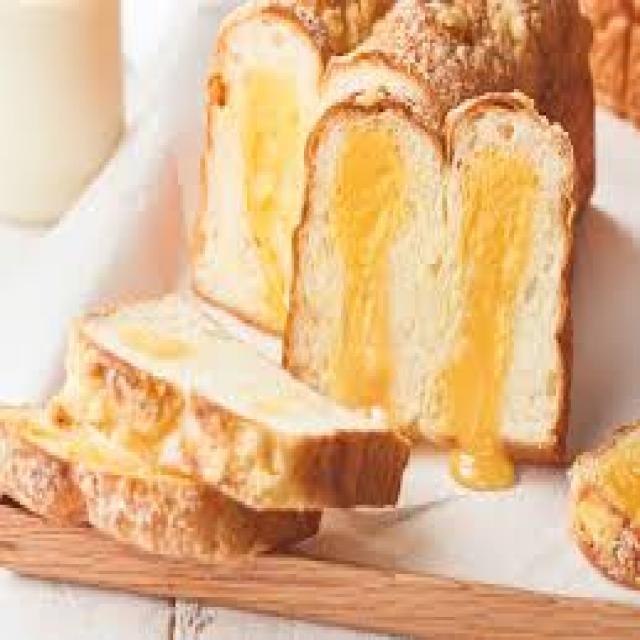organic waste: (188, 0, 593, 333), (277, 86, 571, 482), (61, 287, 408, 508), (0, 402, 321, 551), (568, 419, 638, 581), (566, 0, 637, 129)
